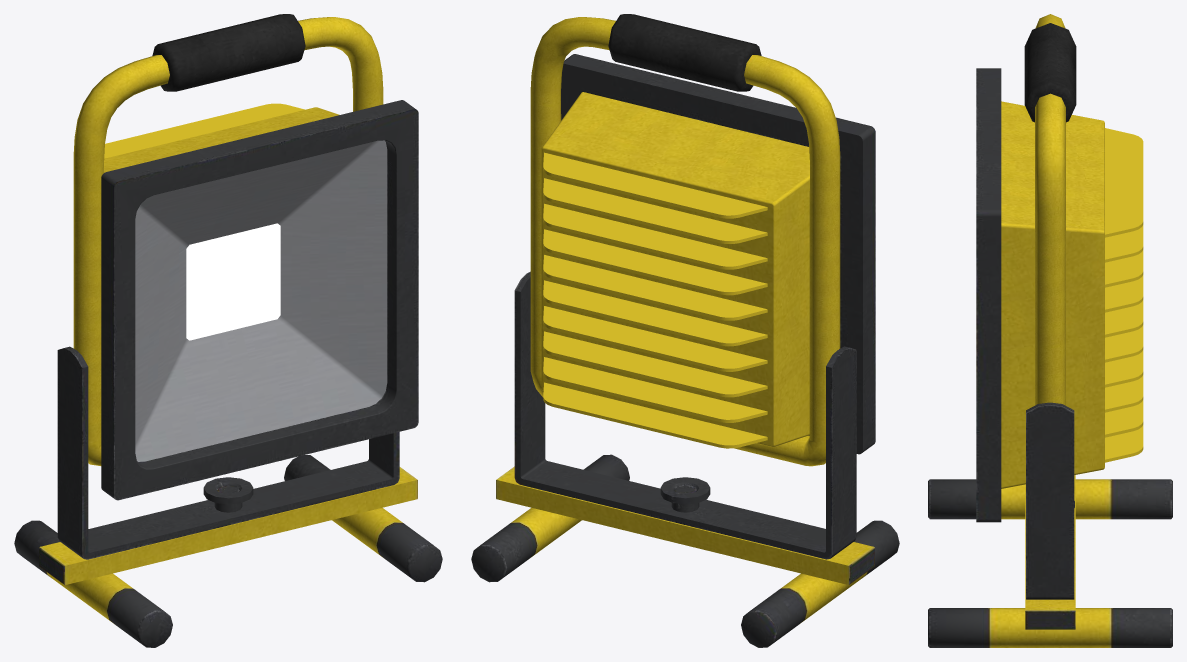
The model's file is portable-lamp.glb.
3 views of the same model, side by side, from view 1: azimuth 30°, elevation 25°; view 2: azimuth 150°, elevation 25°; view 3: azimuth 270°, elevation 25° (orthographic). The views are drawn at different scales.
Parts seen in each view (by area): view 1: big_lamp_1; view 2: big_lamp_1; view 3: big_lamp_1.
Boxes of the visible parts, x1,y1,x2,y2 form: big_lamp_1: (14, 14, 442, 647); big_lamp_1: (471, 14, 899, 647); big_lamp_1: (928, 14, 1172, 647).
Bounding box in the file's own units: 0.6656 × 0.9705 × 0.4068.
Materials: 2 (1 with a texture image).
